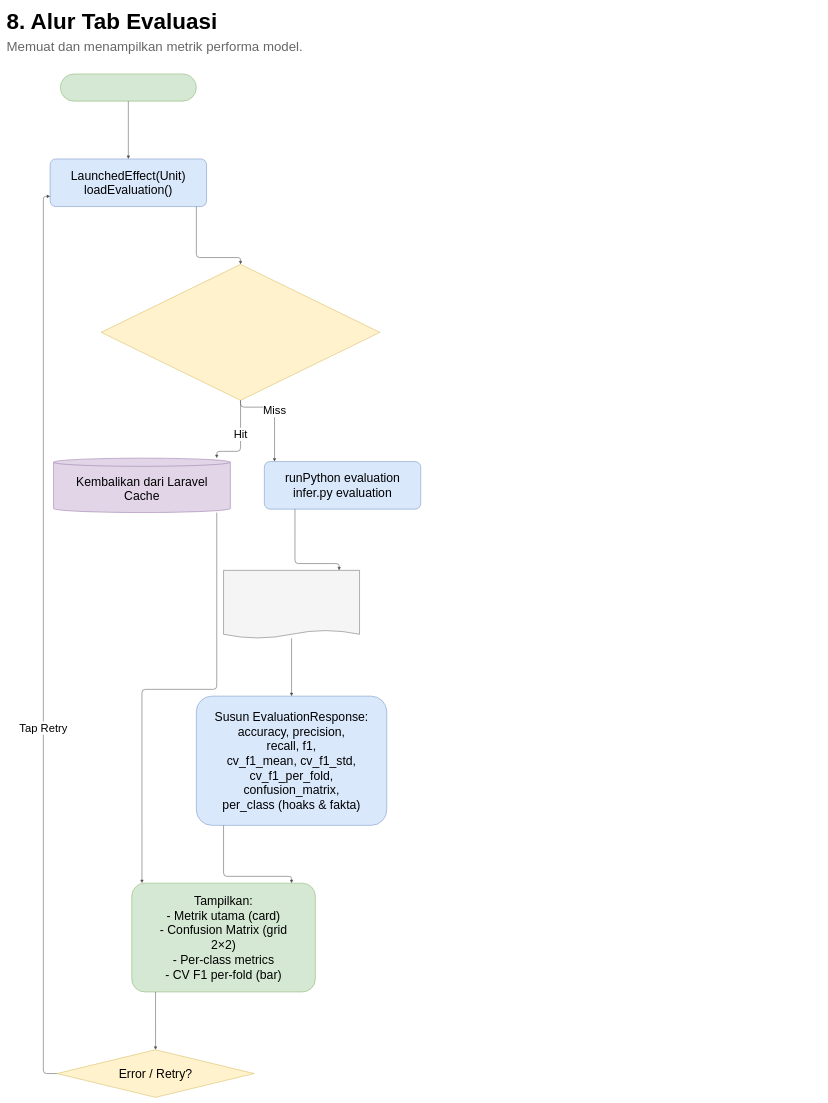
Some shapes in this 828 by 1103 pixel diagram are drawn without their labels. Each missing label, with the centre of its shape:
Baca metrics.json (dihasilkan train_model.py): [291,604]
Buka Tab Evaluasi: [128,87]
Cache hit? cekkabar_evaluation_ v1 (TTL 1 jam): [240,332]
